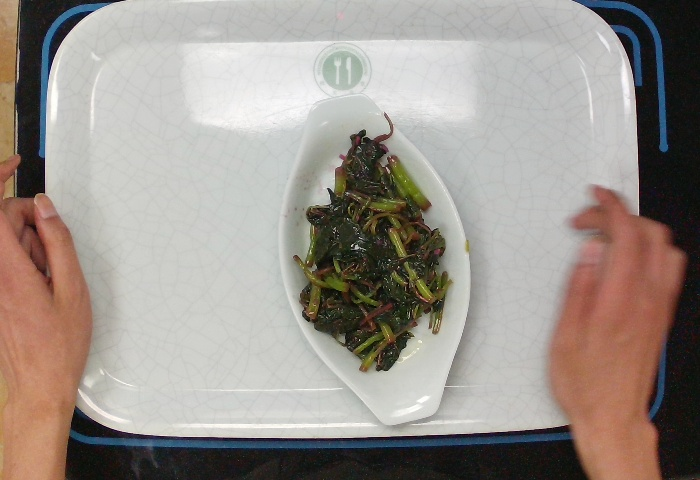JYsf-Yu_Pan: (262, 88, 476, 426)
